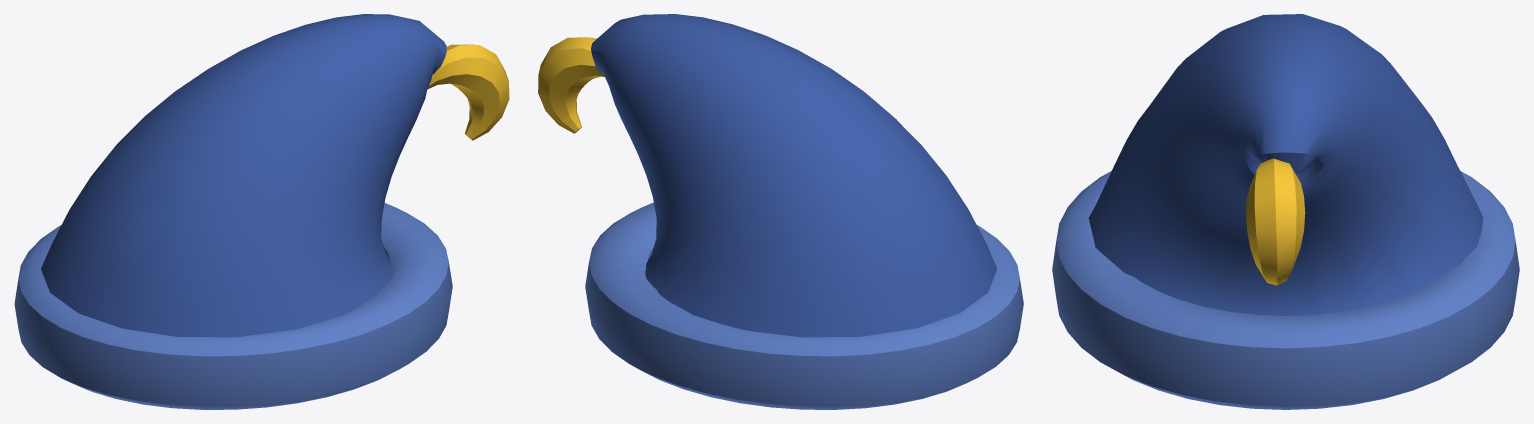
Rendered from sig_nightcap.gltf.
The picture shows the model from 3 angles, left to right: view 1: azimuth 30°, elevation 25°; view 2: azimuth 150°, elevation 25°; view 3: azimuth 270°, elevation 25°; orthographic projection. The views are drawn at different scales.
Visible parts, largest first — view 1: sig_nightcap; view 2: sig_nightcap; view 3: sig_nightcap.
Part boxes in pixels (<box>): sig_nightcap: <box>14,14,509,409</box>; sig_nightcap: <box>538,14,1023,409</box>; sig_nightcap: <box>1052,14,1519,409</box>.
Size of the model in its own units: 1 by 0.5738 by 0.7555.
